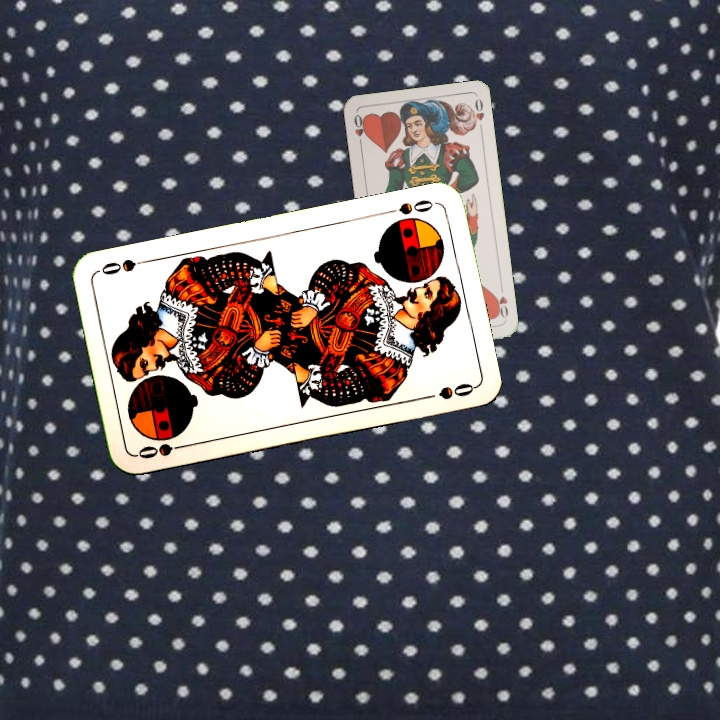HO: (491, 282, 511, 321), (350, 110, 369, 150)
SO: (133, 439, 192, 462), (380, 195, 439, 218)
